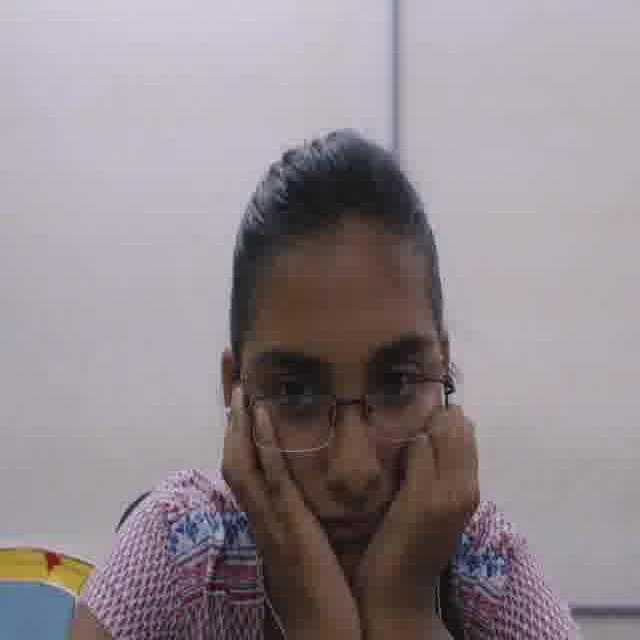Boredom: (238, 236, 448, 601)
